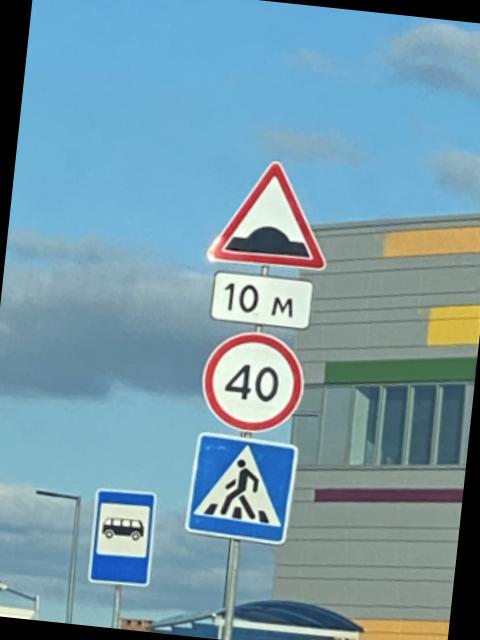crosswalk-sign: (183, 430, 300, 546)
